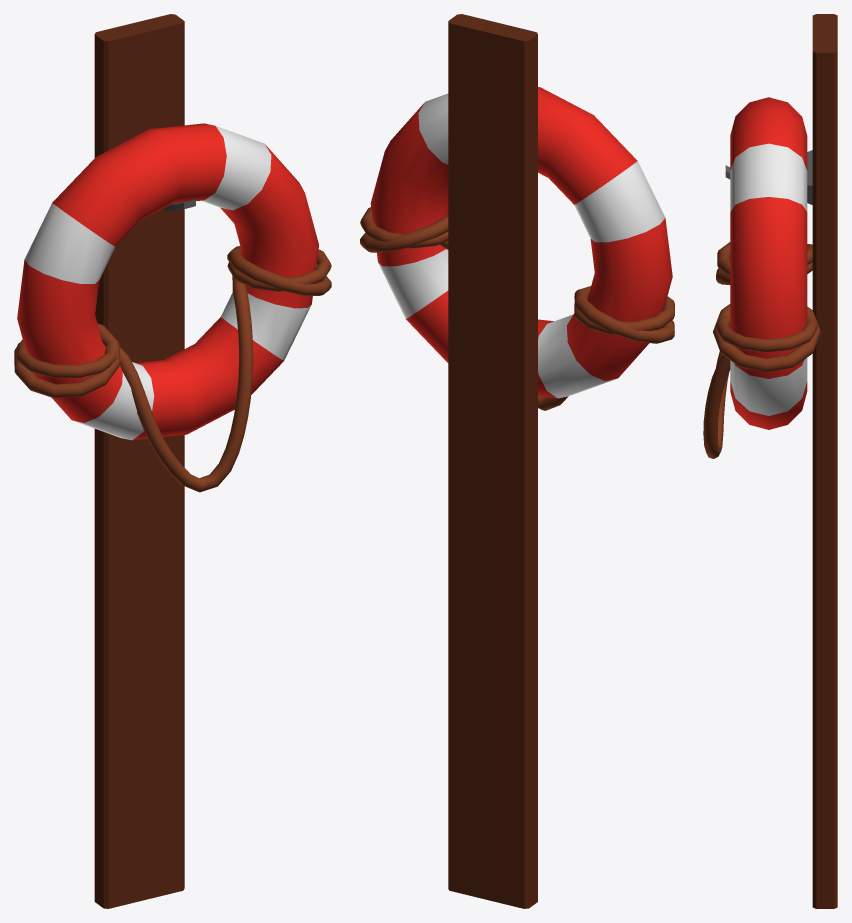
The model's file is Lifepreserver-M00A.fbx.
3 renders of one model, left to right at view 1: azimuth 30°, elevation 25°; view 2: azimuth 150°, elevation 25°; view 3: azimuth 270°, elevation 25°, orthographic.
Visible parts, largest first — view 1: LifepreserverBase-M00A, Lifepreserver-M00A; view 2: LifepreserverBase-M00A, Lifepreserver-M00A; view 3: Lifepreserver-M00A, LifepreserverBase-M00A.
Boxes of the visible parts, bbox=[...] form: LifepreserverBase-M00A: bbox=[94, 14, 195, 908]; Lifepreserver-M00A: bbox=[14, 123, 331, 492]; LifepreserverBase-M00A: bbox=[448, 14, 537, 908]; Lifepreserver-M00A: bbox=[360, 87, 674, 410]; Lifepreserver-M00A: bbox=[703, 97, 820, 458]; LifepreserverBase-M00A: bbox=[725, 14, 837, 908].
Bounding box in the file's own units: 61.76 × 169 × 24.05.
